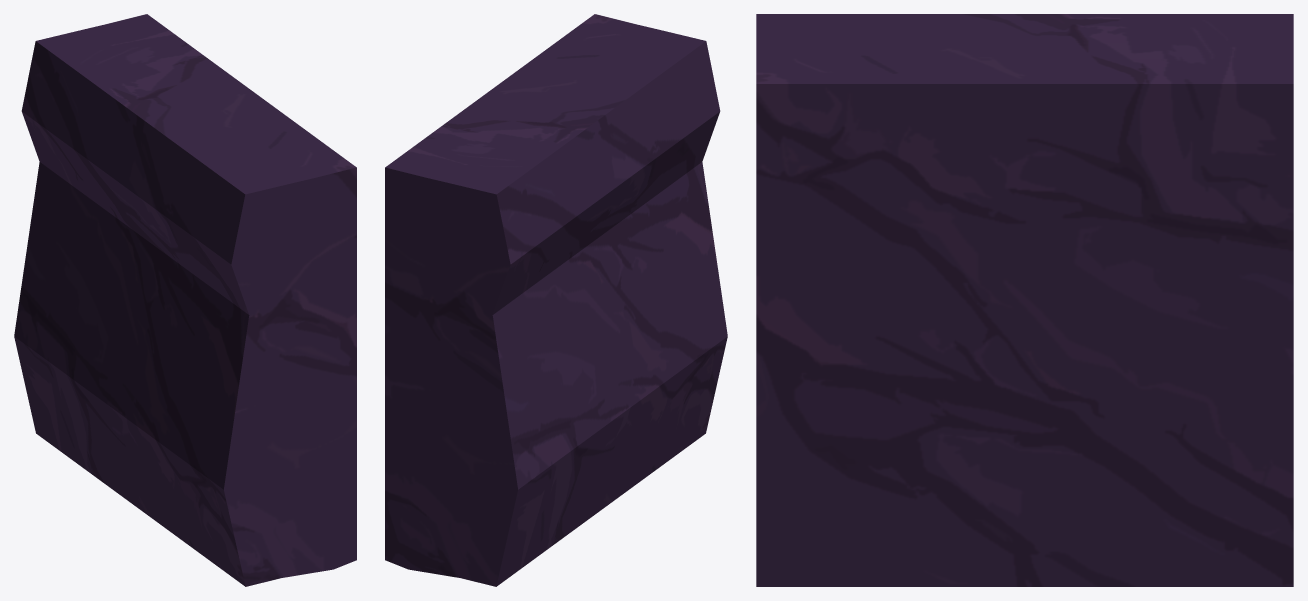
File: intro_prop(wall_catacombs_R)_01.FBX
3 views of the same model, side by side, from view 1: azimuth 30°, elevation 25°; view 2: azimuth 150°, elevation 25°; view 3: azimuth 270°, elevation 25° (orthographic). The views are drawn at different scales.
Parts seen in each view (by area): view 1: wall_catacombs_R001; view 2: wall_catacombs_R001; view 3: wall_catacombs_R001.
Boxes of the visible parts, x1,y1,x2,y2 form: wall_catacombs_R001: (14, 14, 356, 586); wall_catacombs_R001: (385, 14, 727, 586); wall_catacombs_R001: (756, 14, 1293, 586).
Size of what is drawn, in the model's own units: 63.73 by 182 by 174.
